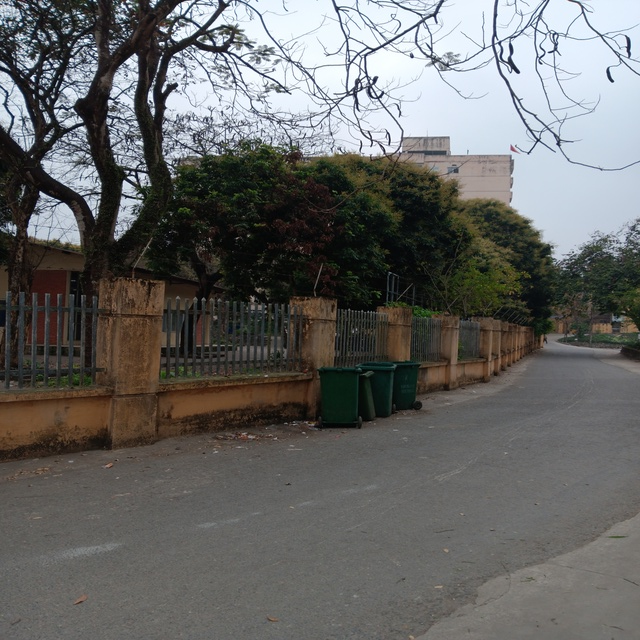thungrac: (319, 362, 361, 434), (369, 359, 397, 419), (392, 358, 424, 410)
